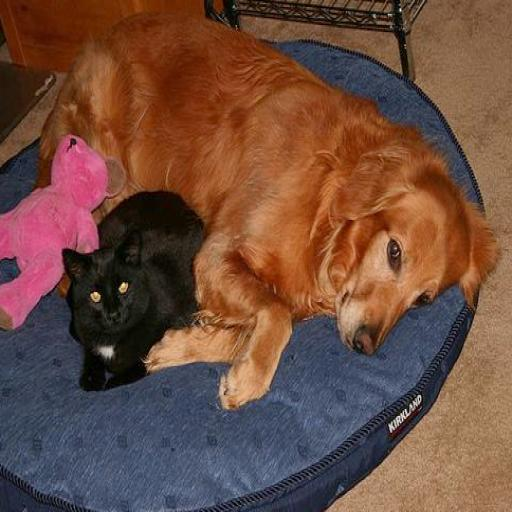dog_face: (338, 140, 495, 368)
